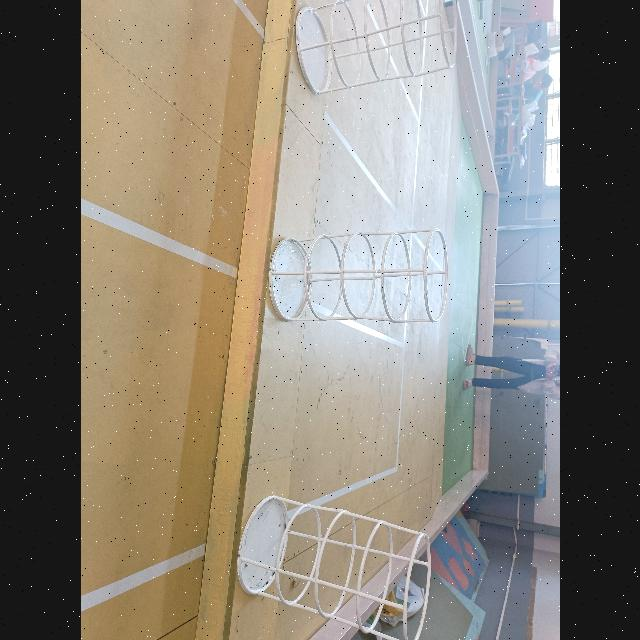S: (232, 489, 438, 640), (260, 223, 451, 328), (290, 0, 464, 99)
